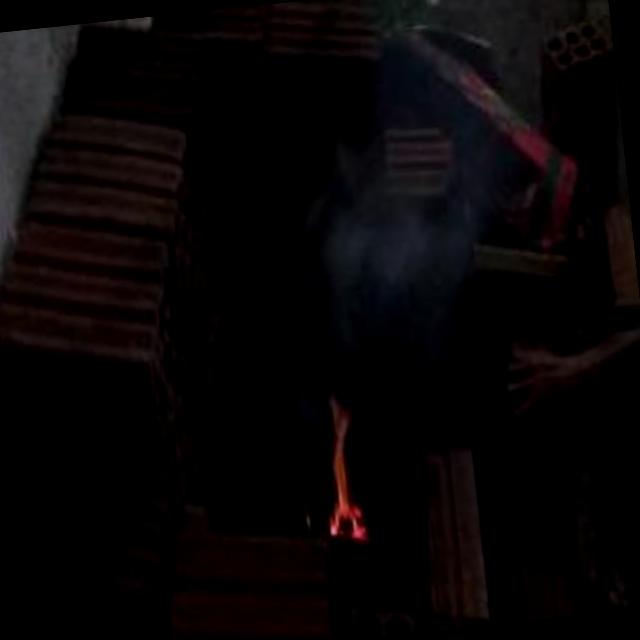fire: (284, 382, 389, 570)
